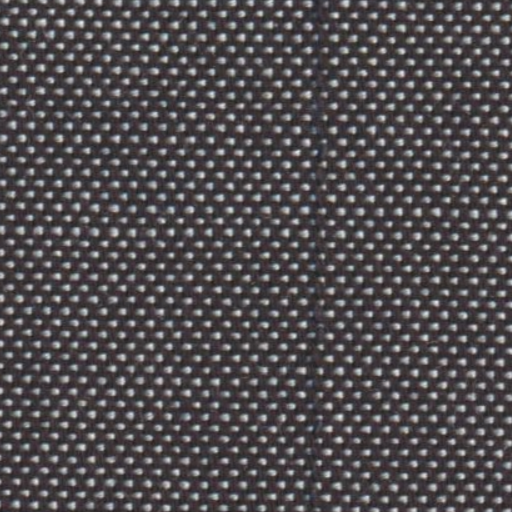TuoSha: (278, 11, 358, 498)
